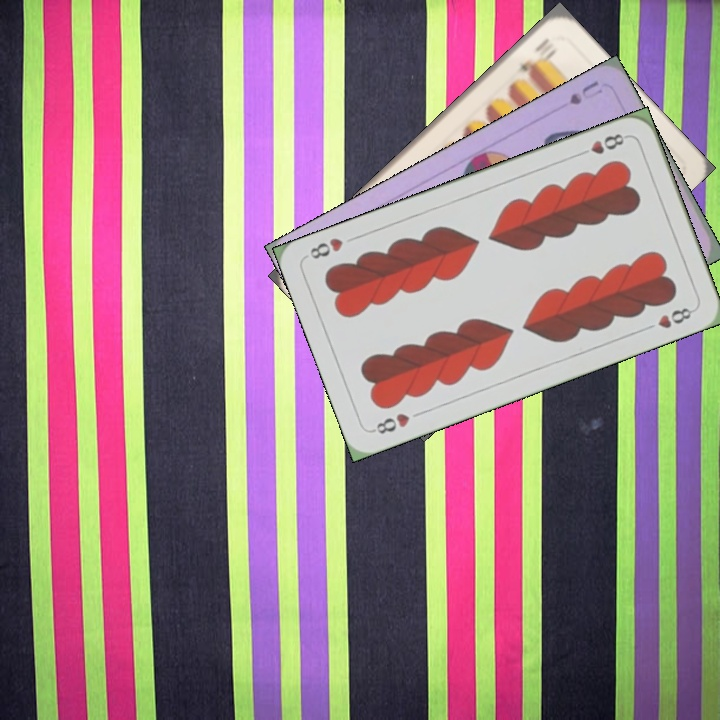E10: (516, 34, 558, 75)
H8: (574, 129, 631, 159), (368, 409, 413, 437)
SU: (565, 76, 605, 108)
